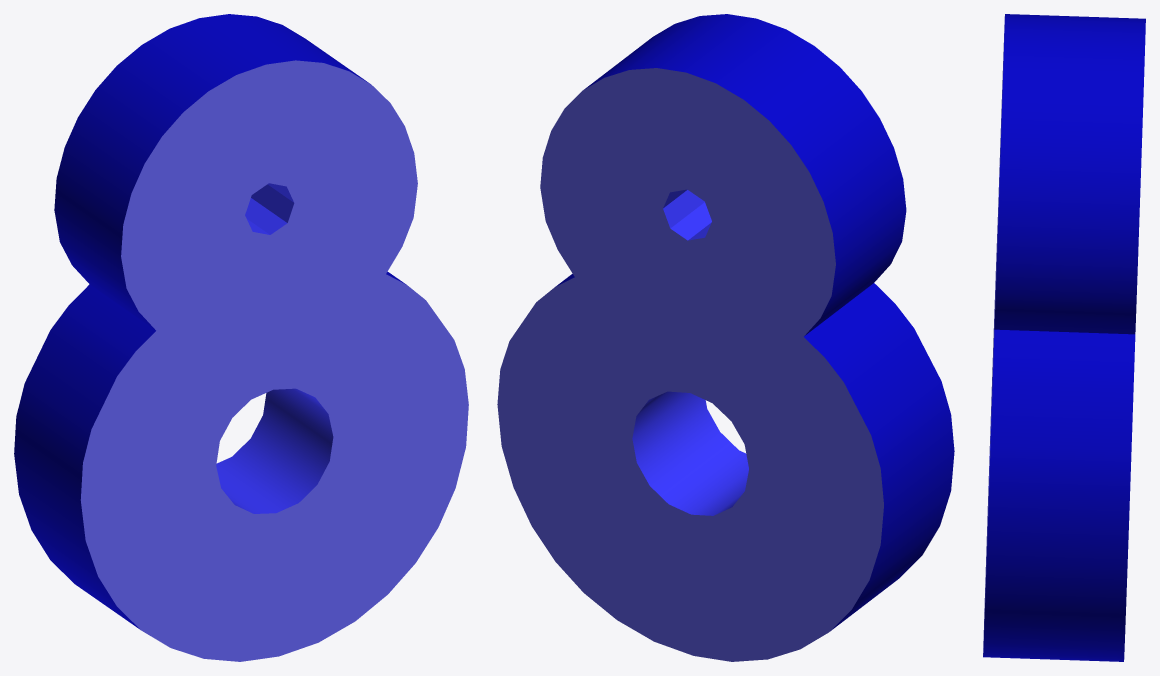
File: choice5.fbx
The picture shows the model from 3 angles, left to right: view 1: azimuth 30°, elevation 25°; view 2: azimuth 150°, elevation 25°; view 3: azimuth 270°, elevation 25°; orthographic projection. The views are drawn at different scales.
Visible parts, largest first — view 1: Model; view 2: Model; view 3: Model.
Boxes of the visible parts, box(x1,y1,x2,y2) form: Model: box(14, 14, 468, 661); Model: box(497, 14, 954, 661); Model: box(983, 14, 1145, 661).
Bounding box in the file's own units: 34.93 × 50.83 × 12.32.
